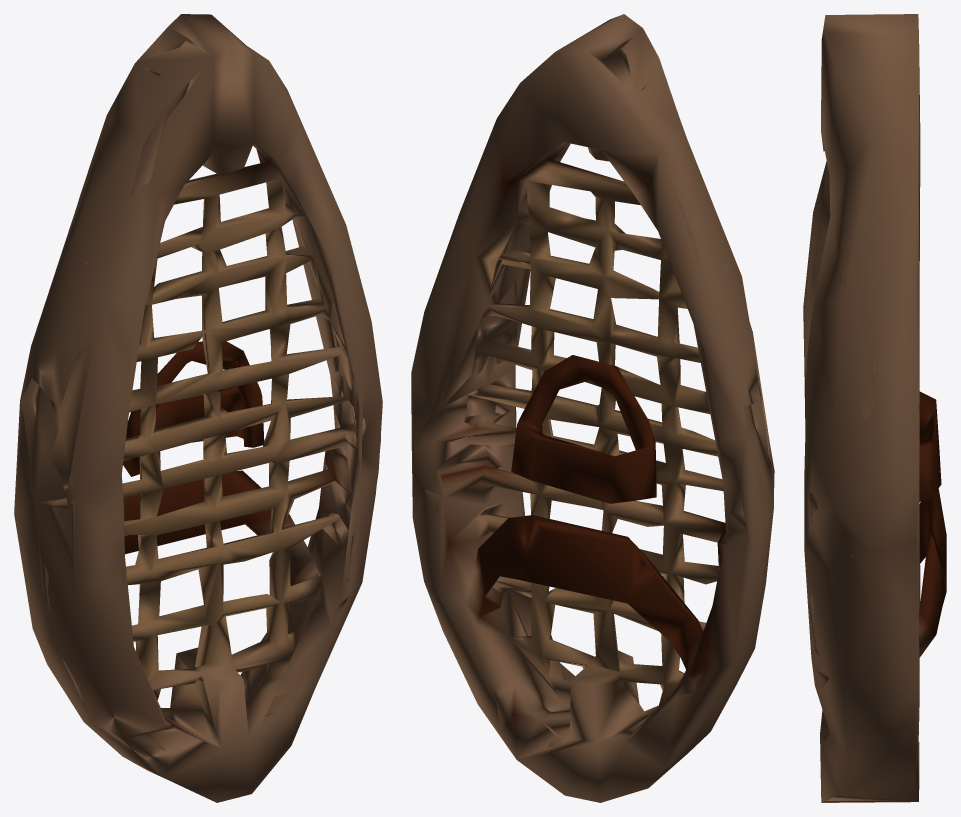
The model's file is gen3d-snowshoe-lod1.glb.
3 renders of one model, left to right at view 1: azimuth 30°, elevation 25°; view 2: azimuth 150°, elevation 25°; view 3: azimuth 270°, elevation 25°, orthographic. The views are drawn at different scales.
Parts seen in each view (by area): view 1: part_0; view 2: part_0; view 3: part_0.
Boxes of the visible parts, bbox=[...] form: part_0: bbox=[14, 14, 382, 802]; part_0: bbox=[411, 14, 774, 802]; part_0: bbox=[803, 14, 946, 802].
Size of the model in its own units: 0.4784 by 0.9991 by 0.1666.
